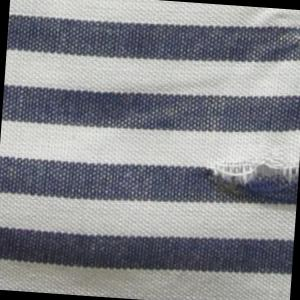Damage: (191, 149, 300, 213), (268, 19, 300, 66)
Wrinkle: (1, 228, 117, 277)
